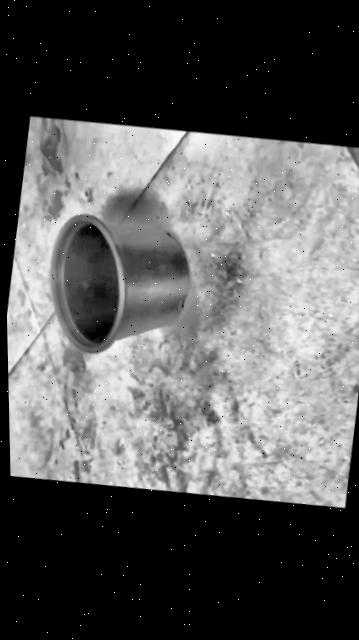pot: (36, 205, 197, 367)
